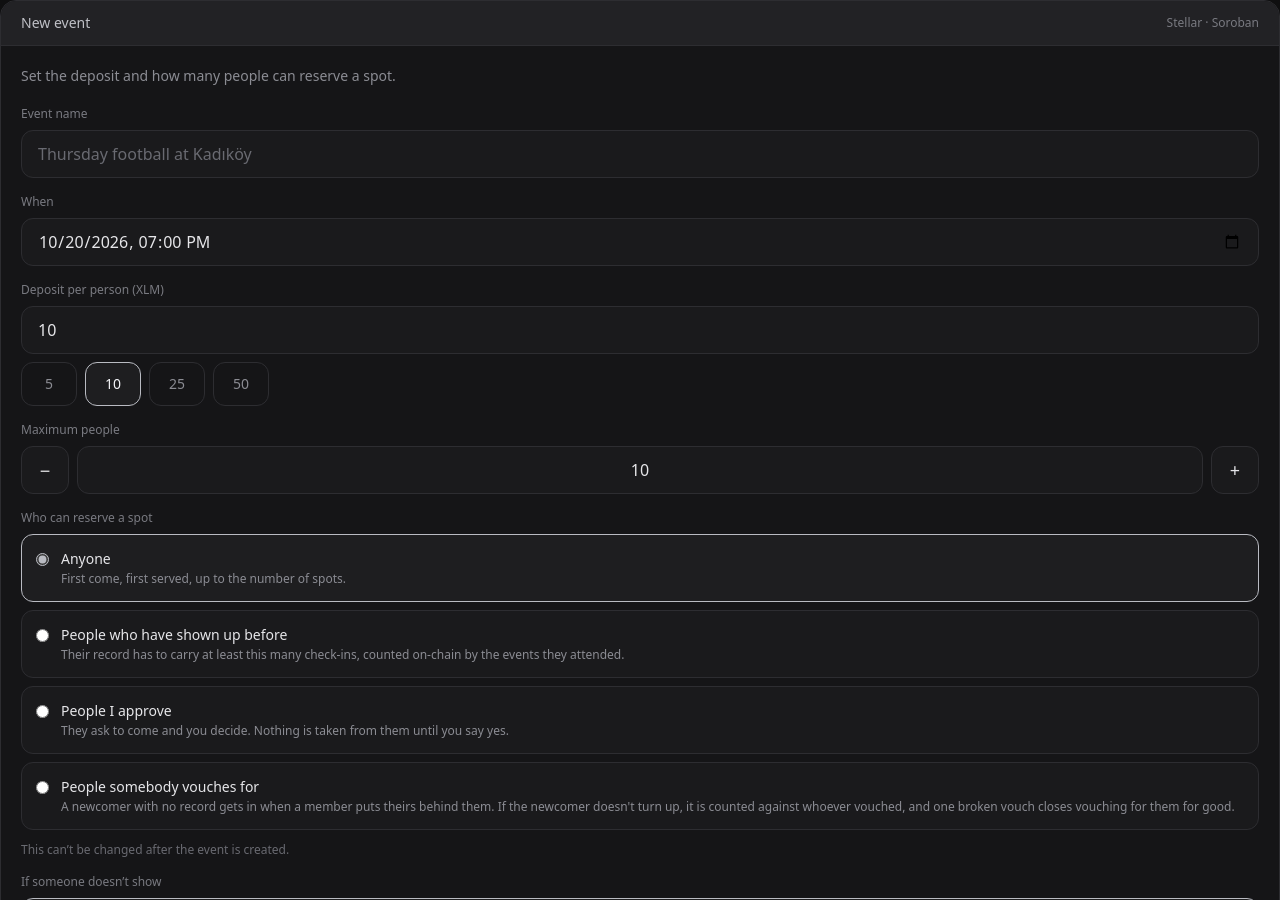
Test case: who can reserve a spot › carries the threshold with a Vouch gate too
In the field labelled "Event name": x=640, y=154 [21,130,1259,178], type "Bring a newcomer"
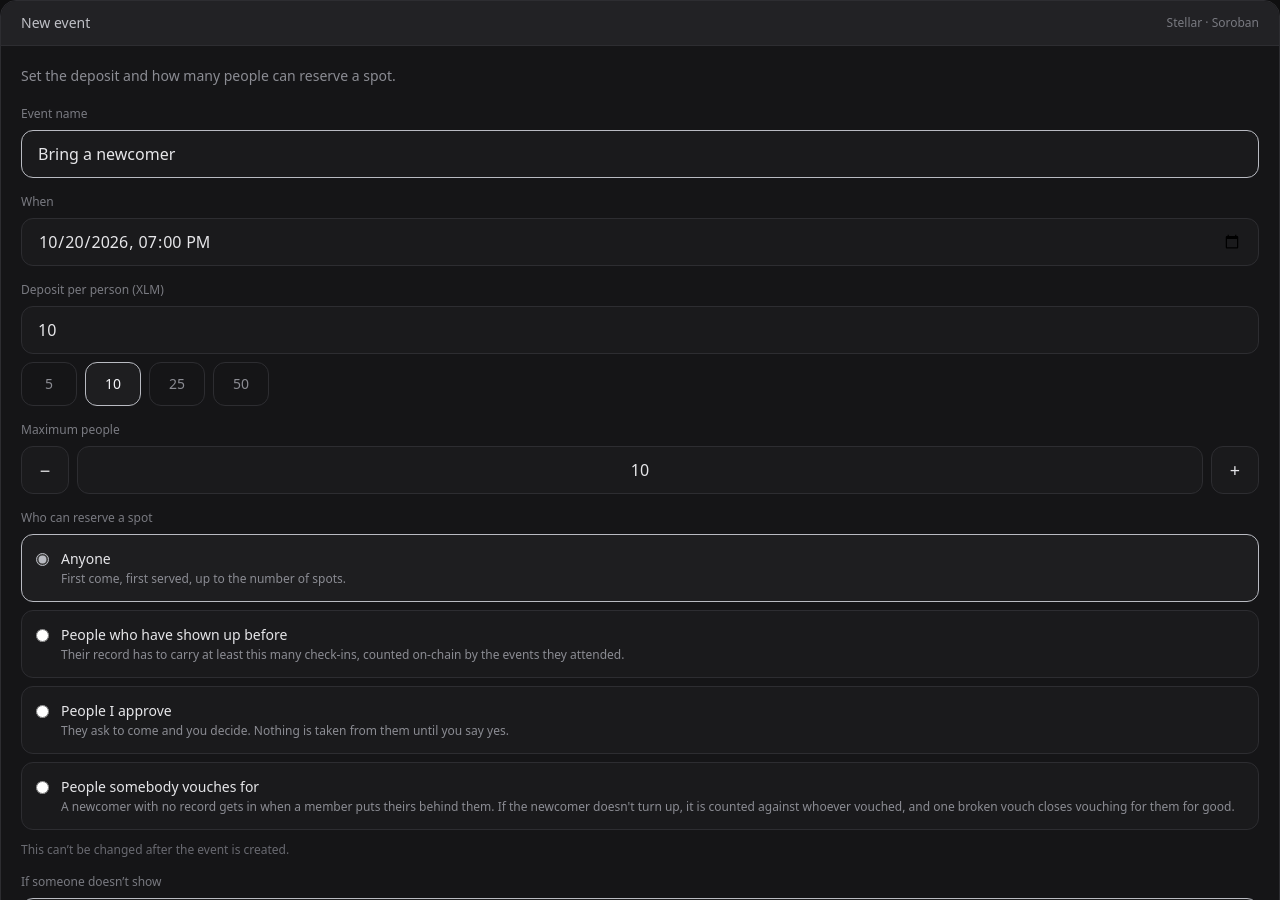
Click the radio button labelled "somebody vouches for": x=42, y=788 [36,781,49,794]
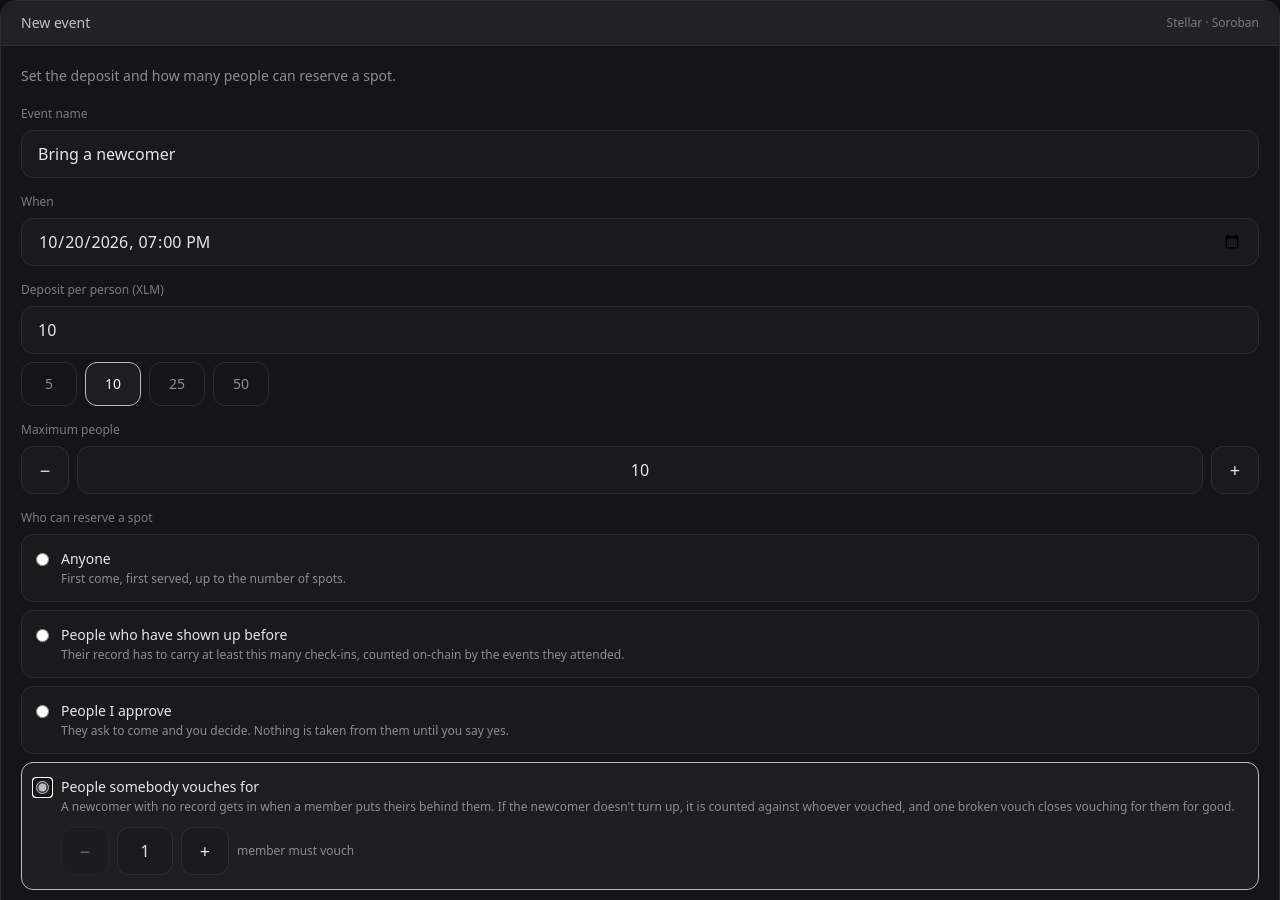
Click the button named "require one more voucher": x=205, y=851 [181,827,229,875]
(page scrolled)
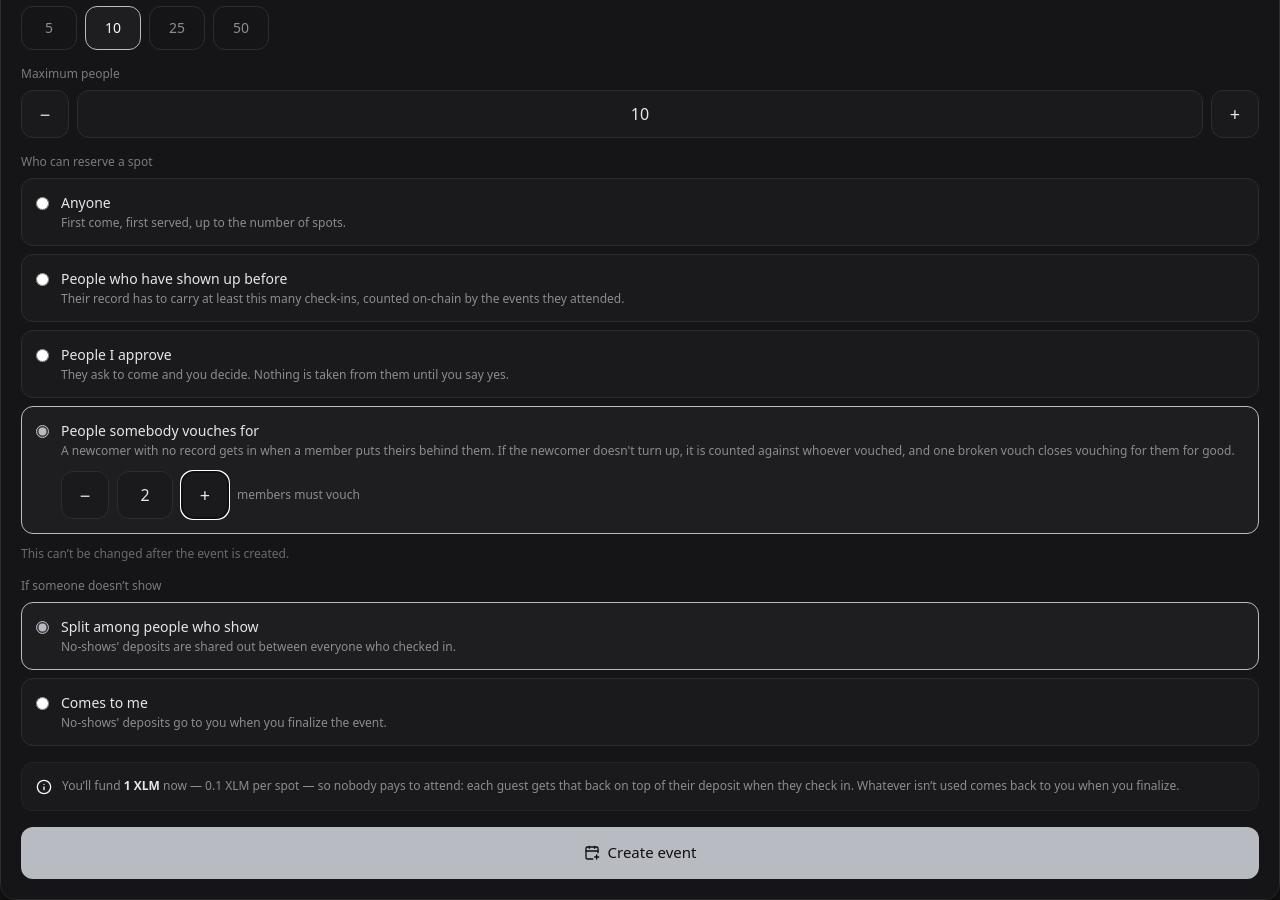
Click the button "Create event": x=640, y=853 [21,827,1259,879]
(page scrolled)
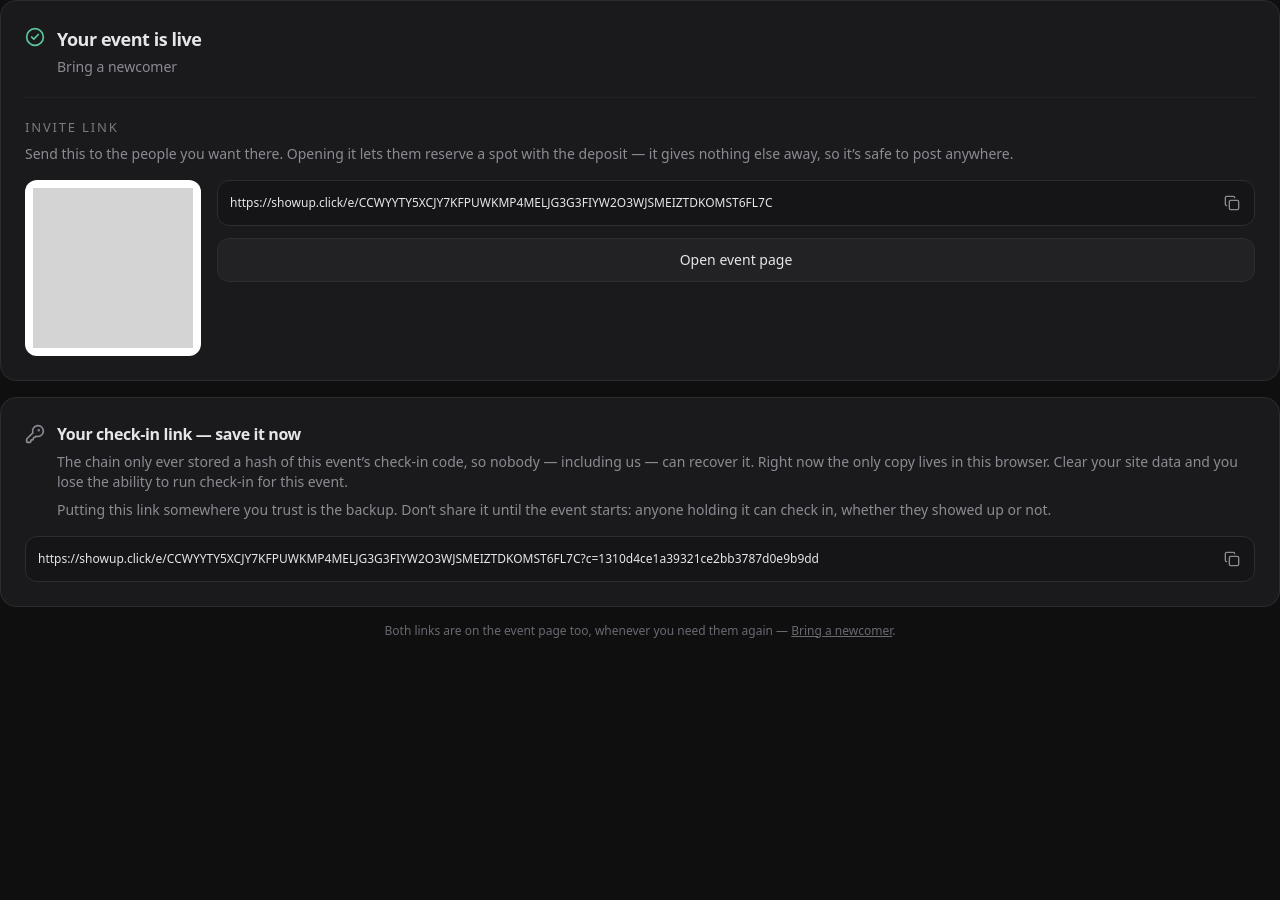
Now the heading "Your event is live" is shown, box [57,25,202,53]
